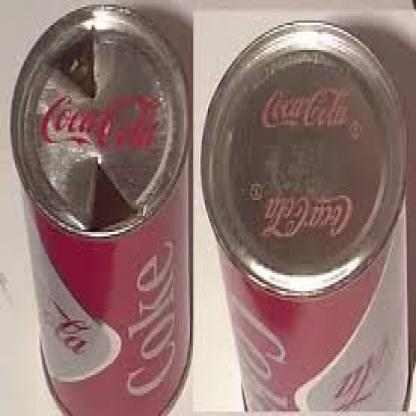Compsot: (198, 18, 408, 414), (9, 2, 190, 414)
